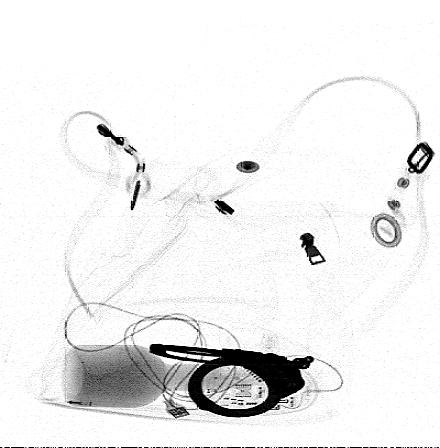HandCuffs: (148, 343, 318, 420)
